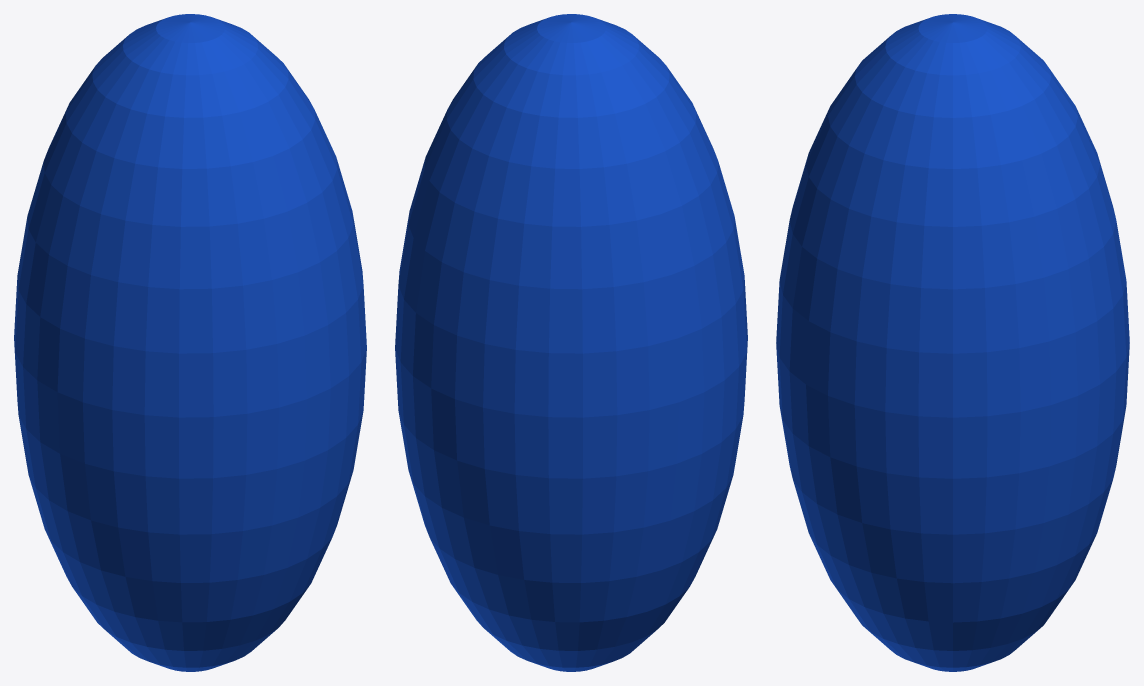
The model's file is basicEnemy.obj.
3 renders of one model, left to right at view 1: azimuth 30°, elevation 25°; view 2: azimuth 150°, elevation 25°; view 3: azimuth 270°, elevation 25°, orthographic.
Visible parts, largest first — view 1: Sphere; view 2: Sphere; view 3: Sphere.
Part boxes in pixels (bbox=[...]): Sphere: bbox=[14, 14, 366, 671]; Sphere: bbox=[395, 14, 747, 671]; Sphere: bbox=[776, 14, 1129, 671].
Bounding box in the file's own units: 2 × 4 × 2.
